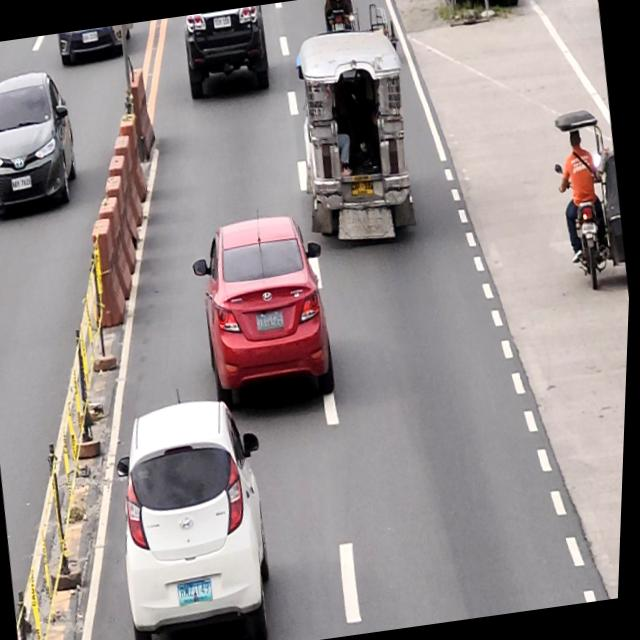Car: (105, 392, 292, 640), (186, 209, 346, 410), (180, 5, 275, 101)
Jeep: (286, 22, 427, 248)
License-Plate: (181, 577, 219, 606), (256, 310, 287, 332), (350, 177, 377, 198), (211, 14, 233, 30), (582, 220, 600, 236)
Tricycle: (546, 106, 635, 296)
